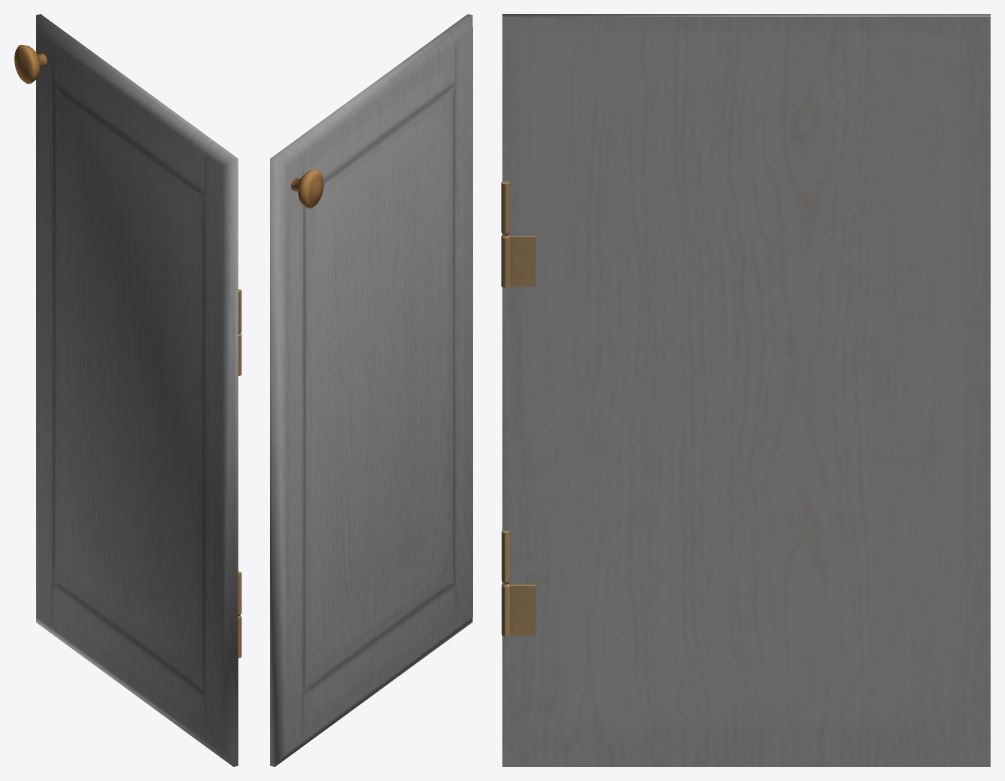
Rendered from SM_KitchenSet_A2_DoorB1.fbx.
3 views of the same model, side by side, from view 1: azimuth 30°, elevation 25°; view 2: azimuth 150°, elevation 25°; view 3: azimuth 270°, elevation 25° (orthographic). The views are drawn at different scales.
Visible parts, largest first — view 1: SM_KitchenSet_A2_DoorB1; view 2: SM_KitchenSet_A2_DoorB1; view 3: SM_KitchenSet_A2_DoorB1.
Part boxes in pixels (x1,y1,x2,y2): SM_KitchenSet_A2_DoorB1: [14, 14, 241, 766]; SM_KitchenSet_A2_DoorB1: [270, 14, 472, 766]; SM_KitchenSet_A2_DoorB1: [501, 14, 990, 766].
Size of the model in its own units: 3.96 by 33.67 by 56.93.
Materials: 2 (2 with a texture image).
